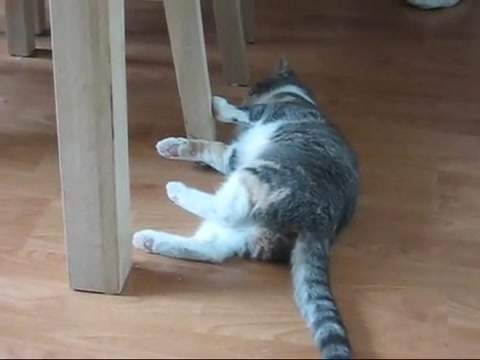cat: (130, 53, 365, 359)
